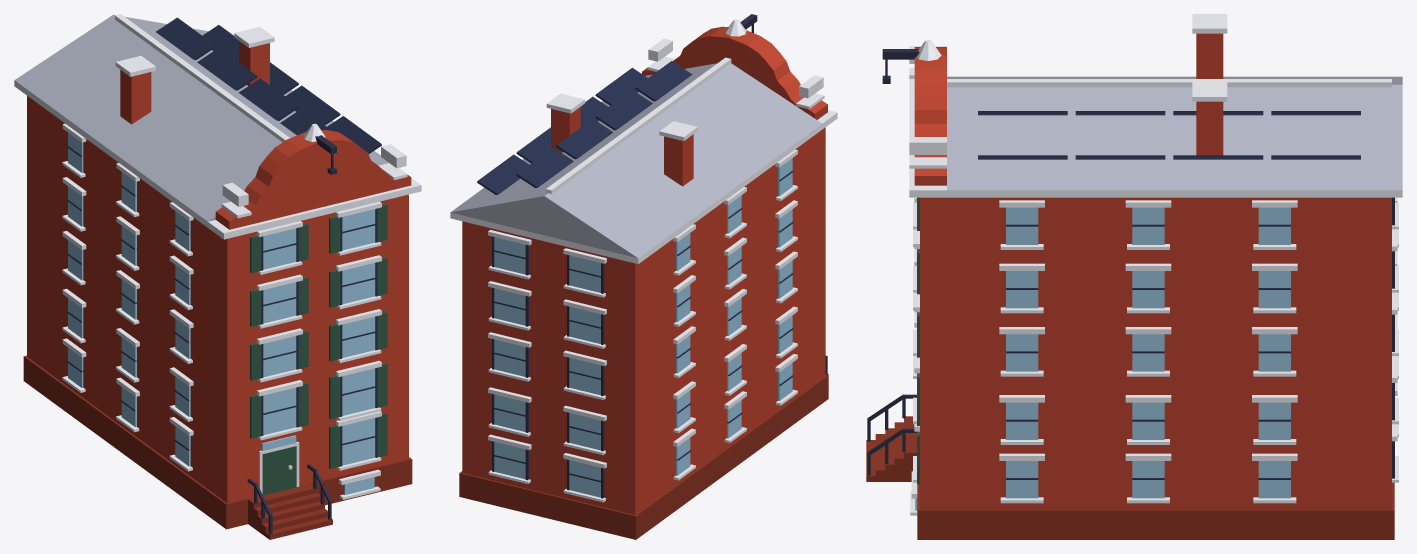
The model's file is house-1x2-5f-dutch-a-solar.glb.
3 renders of one model, left to right at view 1: azimuth 30°, elevation 25°; view 2: azimuth 150°, elevation 25°; view 3: azimuth 270°, elevation 25°, orthographic. The views are drawn at different scales.
Visible parts, largest first — view 1: house-1x2-5f-dutch-a-solar; view 2: house-1x2-5f-dutch-a-solar; view 3: house-1x2-5f-dutch-a-solar.
Boxes of the visible parts, x1=… form: house-1x2-5f-dutch-a-solar: x1=14, y1=14, x2=421, y2=539; house-1x2-5f-dutch-a-solar: x1=450, y1=14, x2=837, y2=539; house-1x2-5f-dutch-a-solar: x1=866, y1=14, x2=1402, y2=539.
Bounding box in the file's own units: 1 × 1.83 × 2.
1 material, 1 textured.
